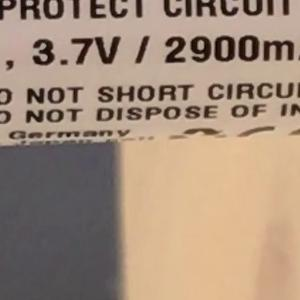keyword: (22, 26, 126, 76)
